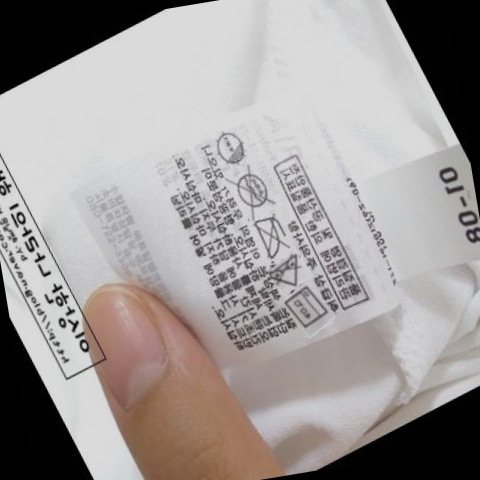40C: (277, 284, 331, 333)
DN_dry_clean: (225, 164, 278, 217)
DN_iron: (248, 212, 292, 262)
line_dry_in_shade: (206, 125, 250, 169)
non_chlorine_bleach: (263, 253, 307, 291)
